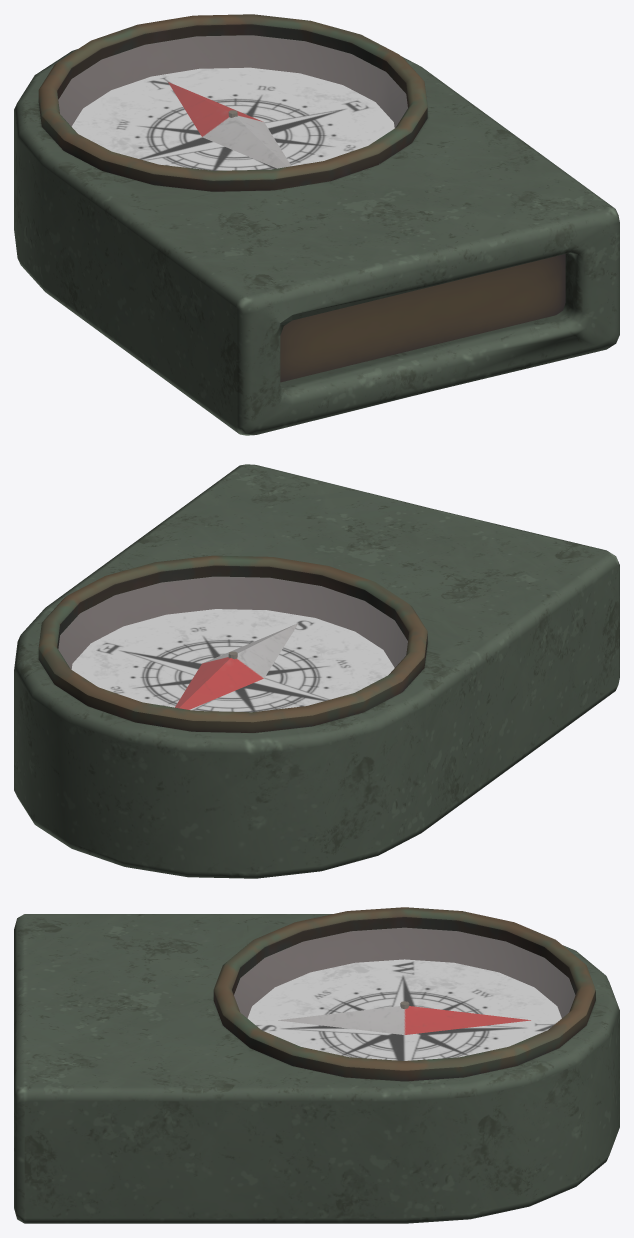
File: Compass.fbx
3 renders of one model, top to bottom at view 1: azimuth 30°, elevation 25°; view 2: azimuth 150°, elevation 25°; view 3: azimuth 270°, elevation 25°, orthographic. The views are drawn at different scales.
Parts seen in each view (by area): view 1: Compass, CompassNeedle; view 2: Compass, CompassNeedle; view 3: Compass, CompassNeedle.
Boxes of the visible parts, box(x1,y1,x2,y2) form: Compass: box(14, 14, 619, 435); CompassNeedle: box(168, 82, 290, 168); Compass: box(14, 464, 619, 878); CompassNeedle: box(175, 623, 298, 709); Compass: box(14, 907, 619, 1223); CompassNeedle: box(278, 1006, 530, 1034).
Bounding box in the file's own units: 0.1138 × 0.044 × 0.1603.
